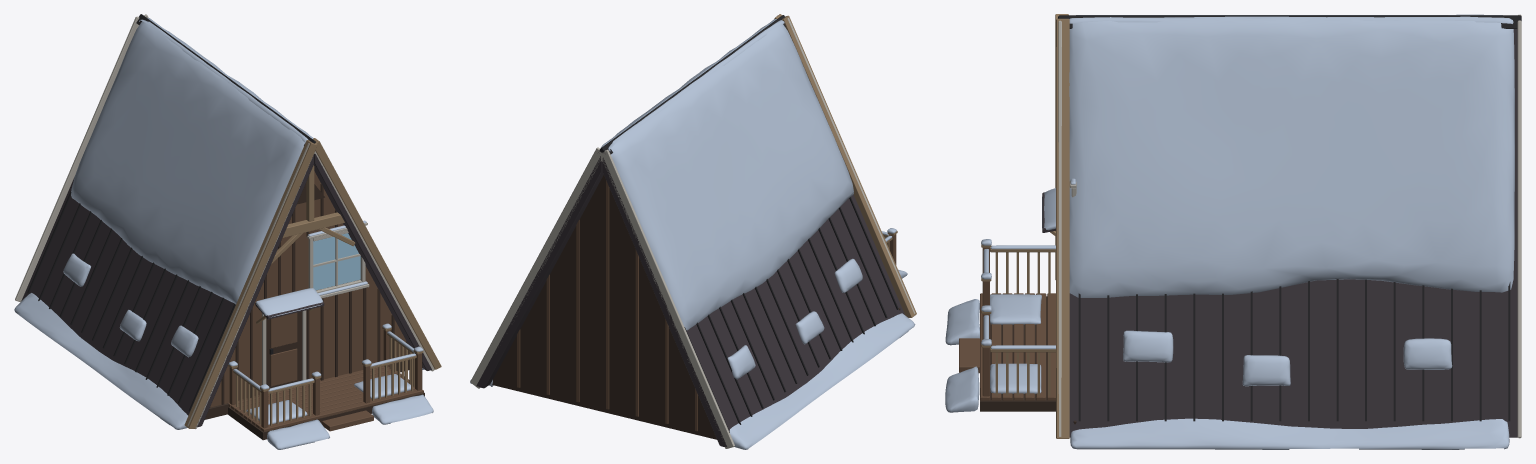
The model's file is a_frame_cabin.glb.
3 renders of one model, left to right at view 1: azimuth 30°, elevation 25°; view 2: azimuth 150°, elevation 25°; view 3: azimuth 270°, elevation 25°, orthographic. The views are drawn at different scales.
Visible parts, largest first — view 1: Body, Front, Deck, WindowsFront; view 2: Body, Front; view 3: Body, Deck, Front.
Boxes of the visible parts, x1=… form: Body: x1=14, y1=14, x2=434, y2=429; Front: x1=184, y1=138, x2=441, y2=428; Deck: x1=228, y1=323, x2=433, y2=449; WindowsFront: x1=313, y1=233, x2=360, y2=290; Body: x1=470, y1=15, x2=915, y2=449; Front: x1=774, y1=14, x2=916, y2=317; Body: x1=1058, y1=14, x2=1521, y2=449; Deck: x1=945, y1=239, x2=1055, y2=412; Front: x1=1042, y1=14, x2=1076, y2=438.
Size of what is drawn, in the model's own units: 6.58 by 6.17 by 9.26.
